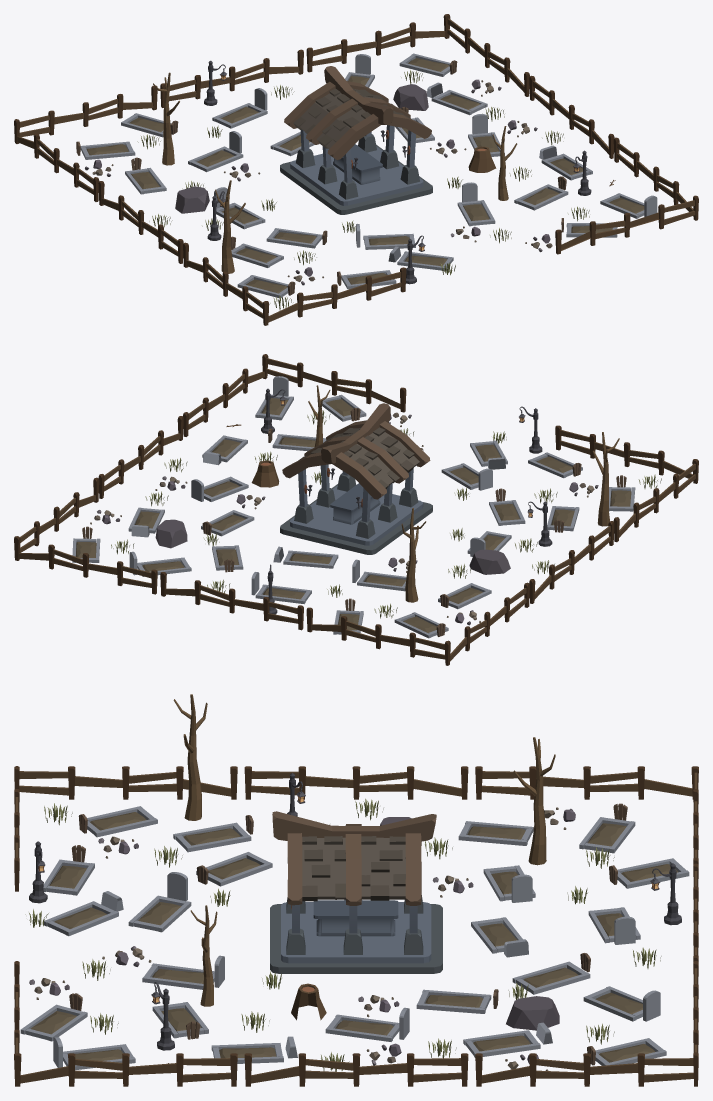
The model's file is Building_Graveyard_Square st5.fbx.
The picture shows the model from 3 angles, top to bottom: view 1: azimuth 30°, elevation 25°; view 2: azimuth 150°, elevation 25°; view 3: azimuth 270°, elevation 25°; orthographic projection. The views are drawn at different scales.
Visible parts, largest first — view 1: Building_Graveyard_Square st5; view 2: Building_Graveyard_Square st5; view 3: Building_Graveyard_Square st5.
Boxes of the visible parts, bbox=[...] form: Building_Graveyard_Square st5: bbox=[14, 14, 698, 325]; Building_Graveyard_Square st5: bbox=[14, 354, 698, 665]; Building_Graveyard_Square st5: bbox=[14, 694, 698, 1086].
Bounding box in the file's own units: 594 × 124 × 594.
